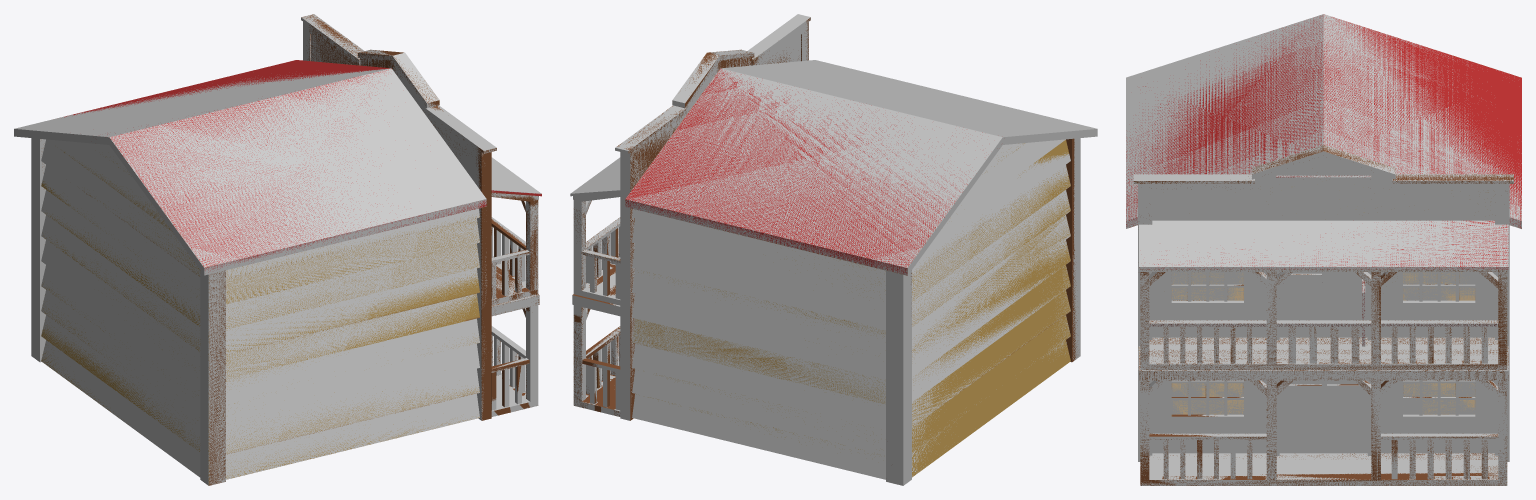
File: hotel_texture.fbx
3 renders of one model, left to right at view 1: azimuth 30°, elevation 25°; view 2: azimuth 150°, elevation 25°; view 3: azimuth 270°, elevation 25°, orthographic. The views are drawn at different scales.
Visible parts, largest first — view 1: Shutters, Shutters.001; view 2: Shutters, Shutters.001; view 3: Shutters, Shutters.001.
Part boxes in pixels (left/top/right/bottom): Shutters: left=14, top=14, right=541, bottom=485; Shutters.001: left=41, top=14, right=541, bottom=485; Shutters: left=570, top=14, right=1097, bottom=485; Shutters.001: left=573, top=17, right=1077, bottom=477; Shutters: left=1126, top=14, right=1521, bottom=485; Shutters.001: left=1126, top=14, right=1521, bottom=485.
Size of the model in its own units: 1870 by 1558 by 1791.
